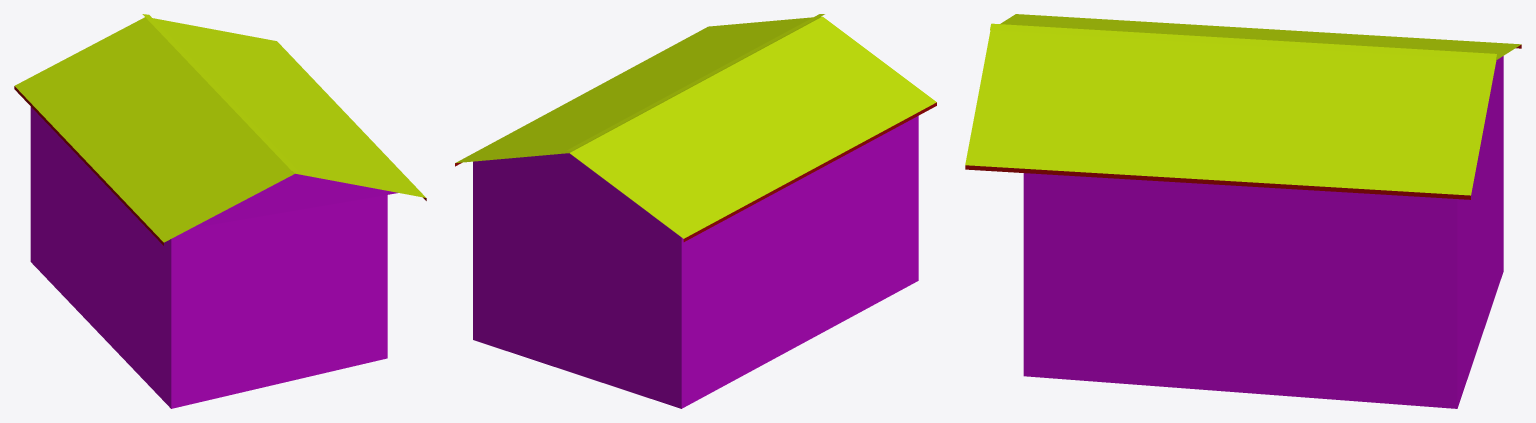
The model's file is scl_33.glb.
The picture shows the model from 3 angles, left to right: view 1: azimuth 30°, elevation 25°; view 2: azimuth 150°, elevation 25°; view 3: azimuth 270°, elevation 25°; orthographic projection. The views are drawn at different scales.
Parts seen in each view (by area): view 1: scl_33; view 2: scl_33; view 3: scl_33.
Boxes of the visible parts, left/top/right/bottom form: scl_33: left=14, top=14, right=426, bottom=408; scl_33: left=455, top=14, right=936, bottom=408; scl_33: left=965, top=14, right=1521, bottom=408.
Size of the model in its own units: 10.74 by 7.87 by 13.92.
